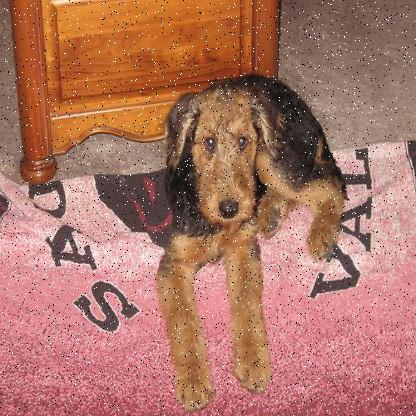dog: (164, 69, 339, 397)
